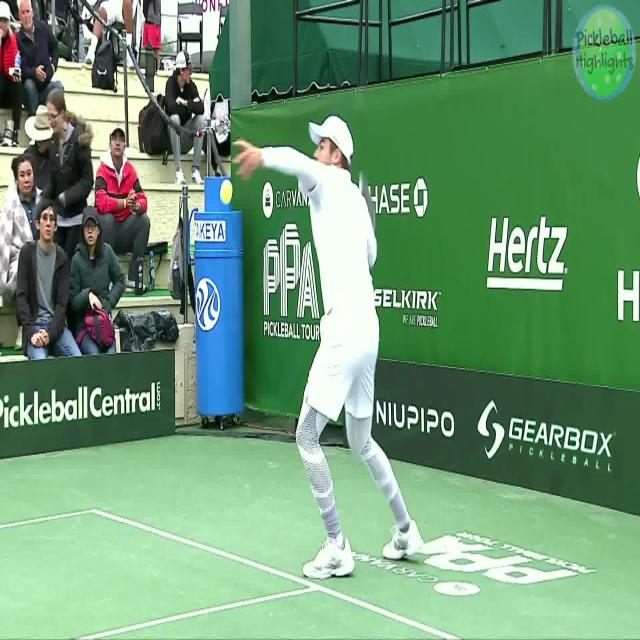ball: (218, 178, 233, 203)
